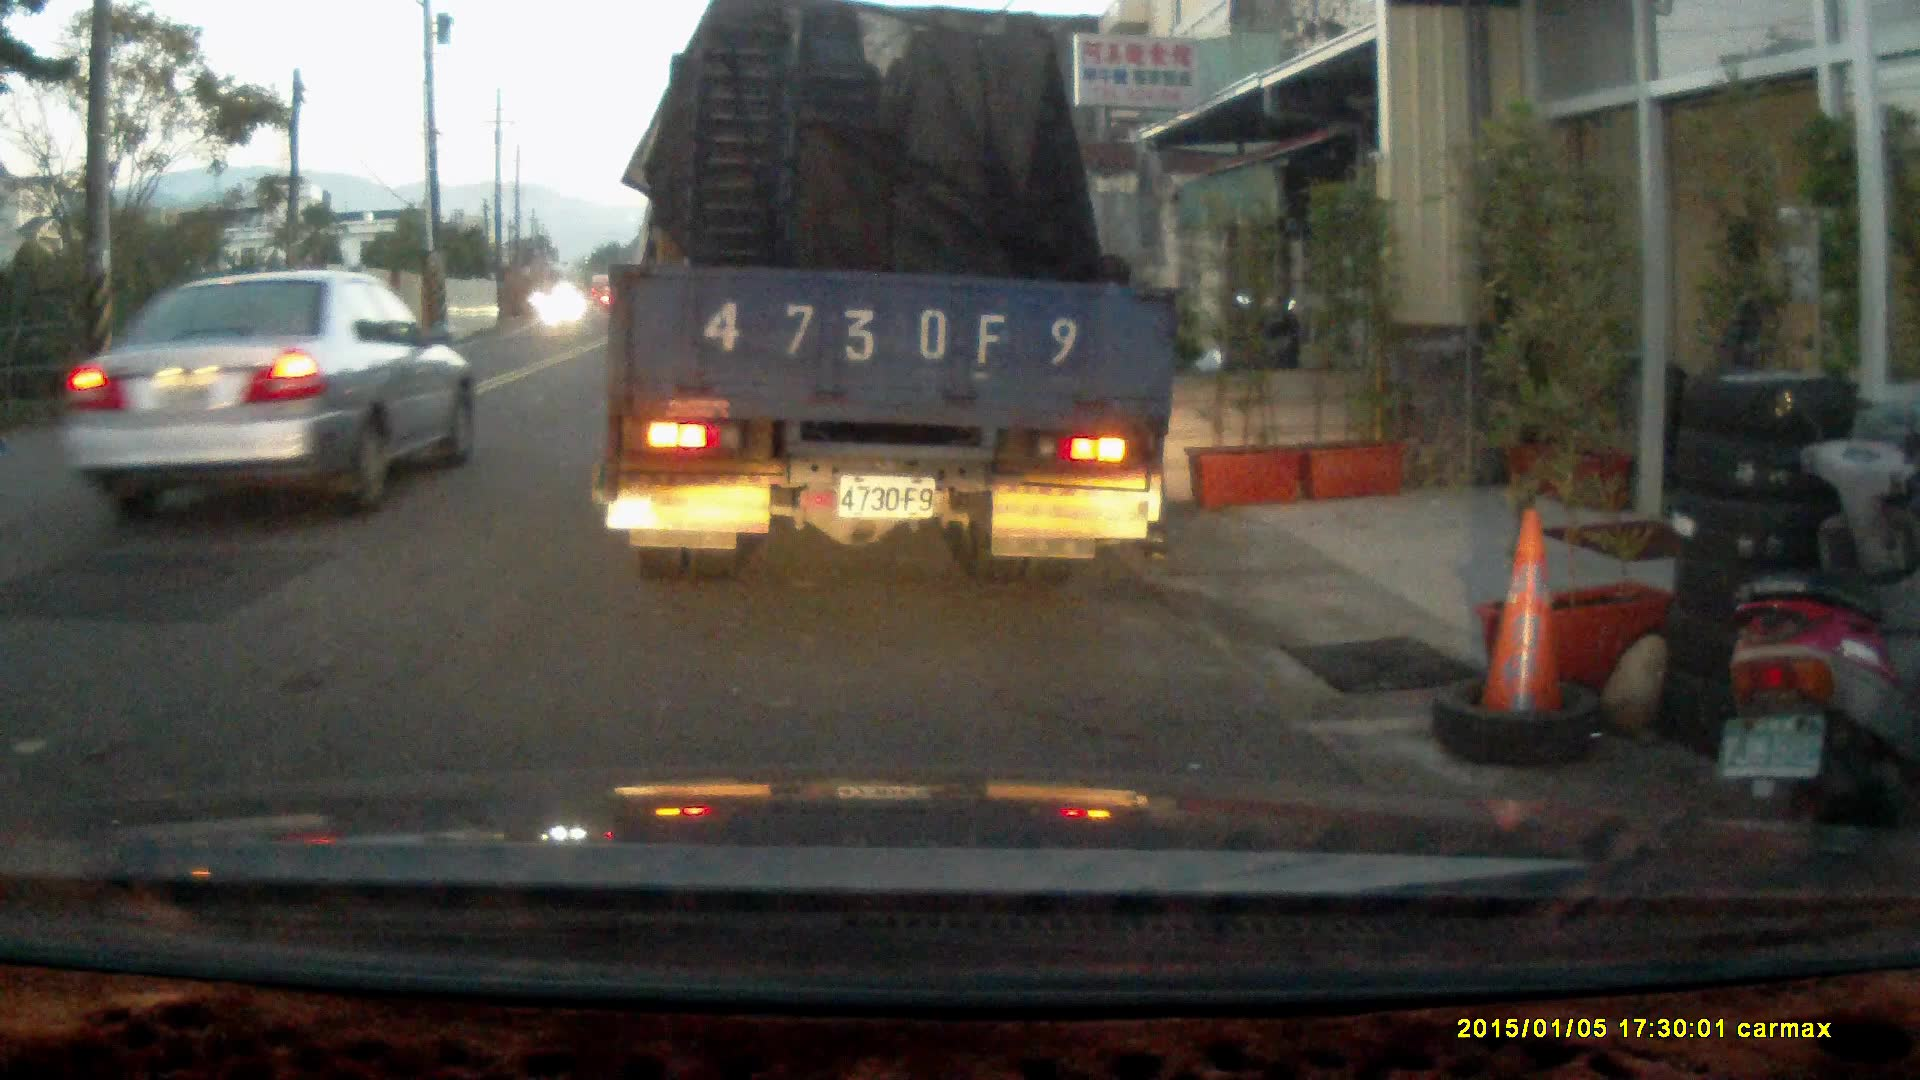pedestrian: (1702, 226, 1790, 476)
vehicle: (605, 23, 1188, 572), (49, 269, 474, 511)
